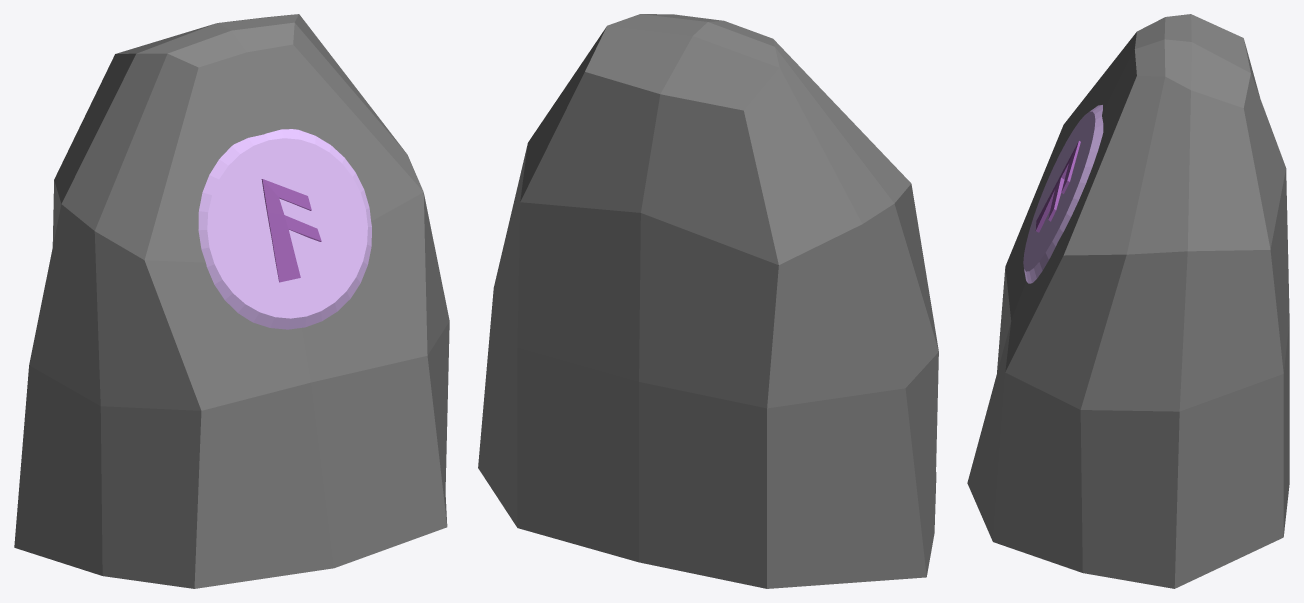
File: rune-violet.fbx
The picture shows the model from 3 angles, left to right: view 1: azimuth 30°, elevation 25°; view 2: azimuth 150°, elevation 25°; view 3: azimuth 270°, elevation 25°; orthographic projection. The views are drawn at different scales.
Visible parts, largest first — view 1: Cube; view 2: Cube; view 3: Cube.
Part boxes in pixels (box(x1,y1,x2,y2)): Cube: box(14, 14, 449, 588); Cube: box(478, 14, 938, 588); Cube: box(967, 14, 1289, 588).
Bounding box in the file's own units: 260 × 277 × 178.
